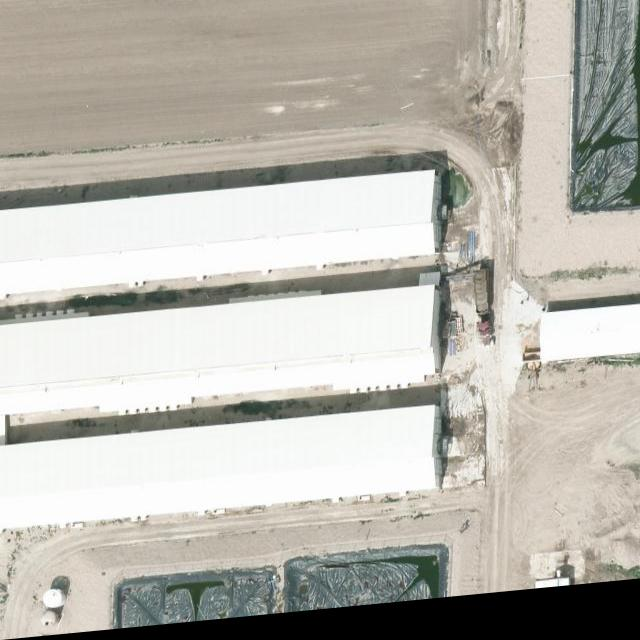vehicle: (474, 278, 494, 361)
